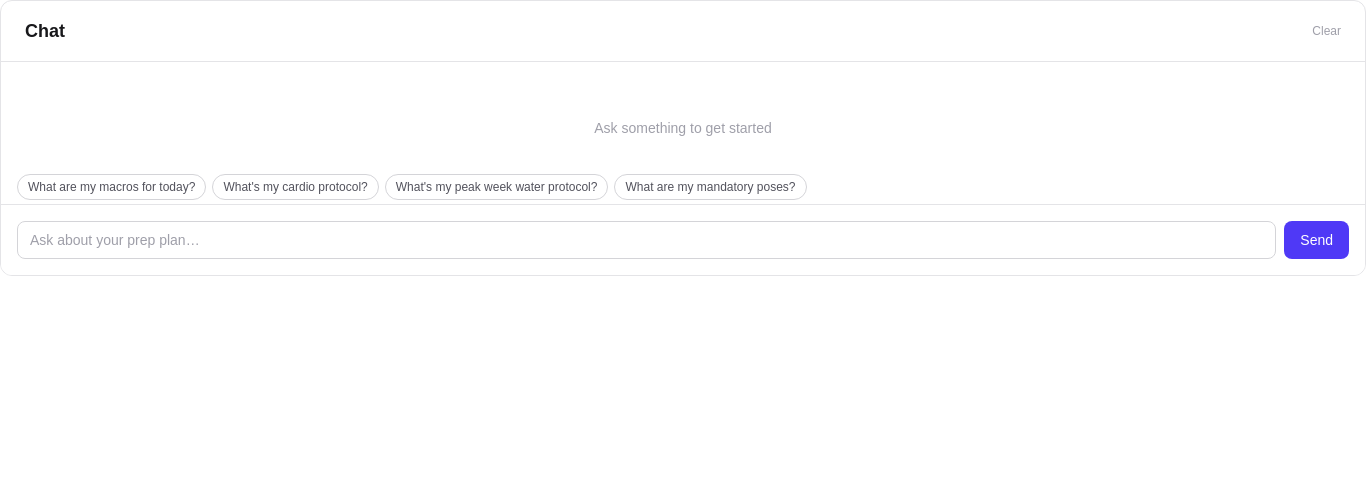
Scenario: Task 9: Frontend UI — Chat Interface › should persist all messages in the UI across multiple turns
Type "Question one" into the field. click: (647, 240)
box: [17,221,1276,259]
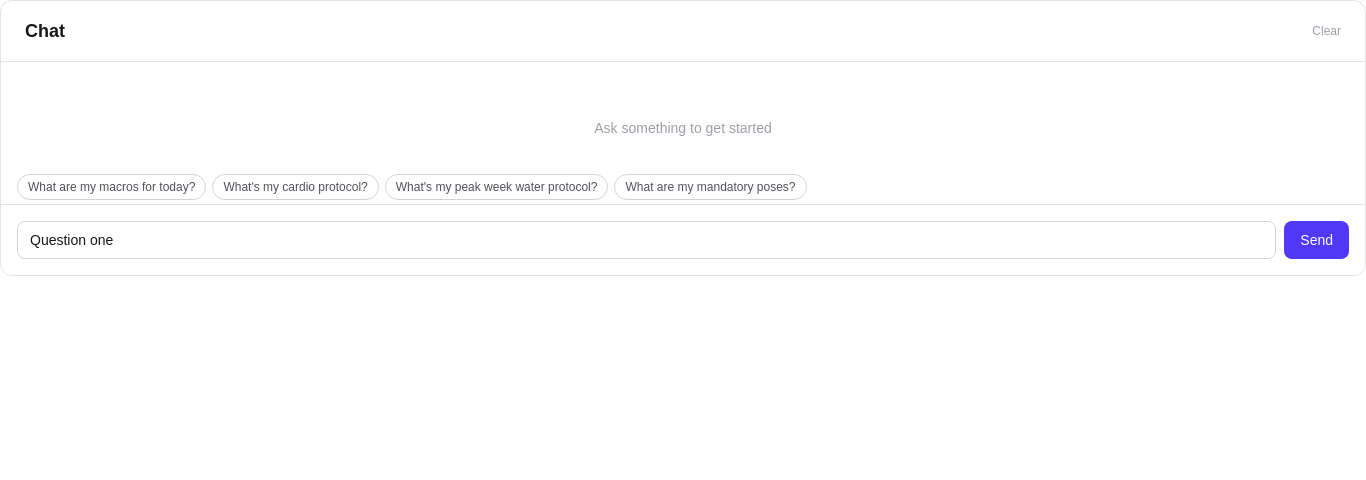
Click the button "Send". click: click(1317, 240)
box: [1284,221,1349,259]
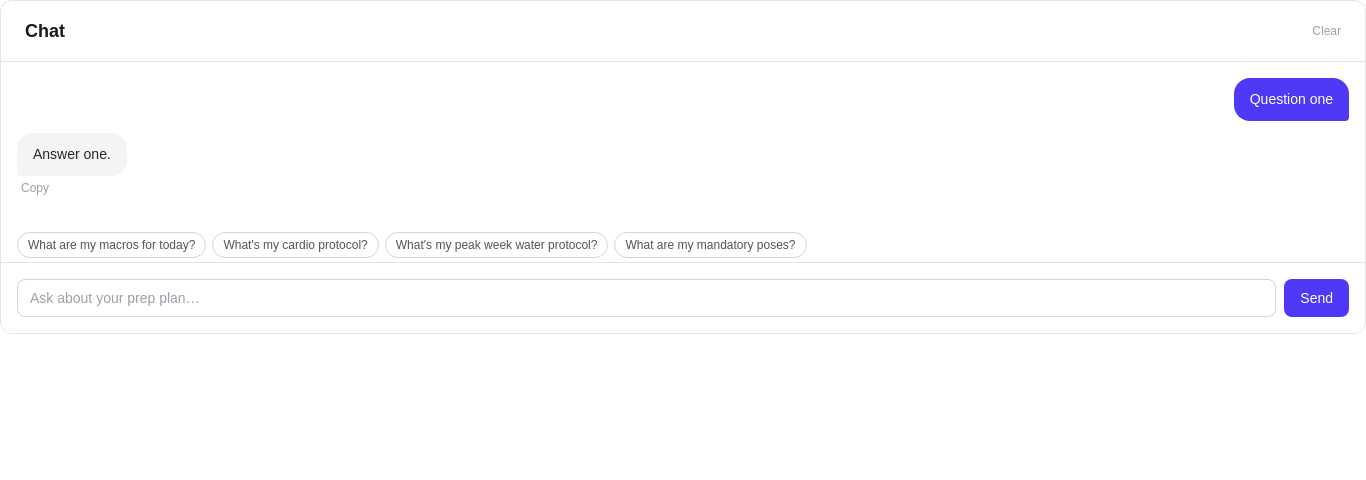
Expected: the text "Answer one." is shown, [33,143,111,166]
Type "Question two" into the field. click: (647, 298)
box: [17,278,1276,316]
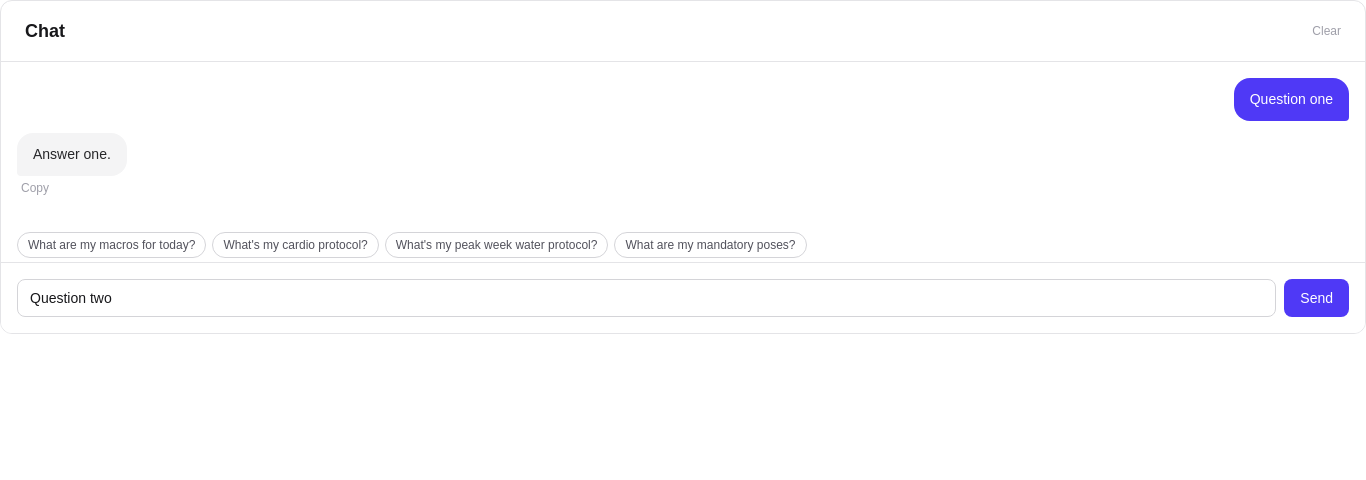
Click the button "Send". click: click(1317, 298)
box: [1284,278,1349,316]
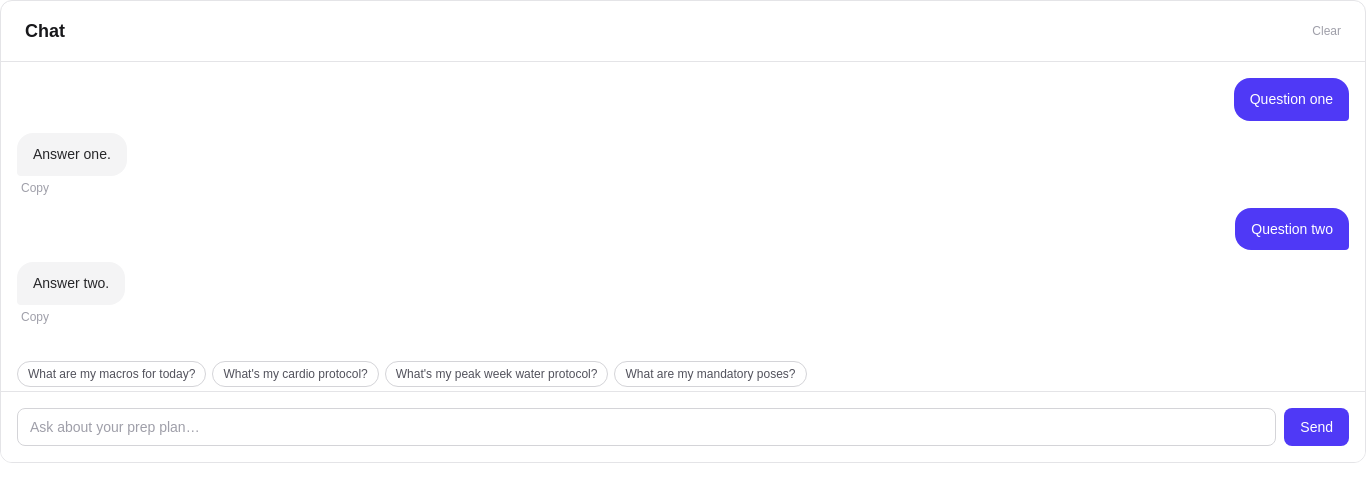
Expected: the text "Question one" is shown, [1250,88,1333,111]
Expected: the text "Answer one." is shown, [33,143,111,166]
Expected: the text "Question two" is shown, [1251,218,1333,240]
